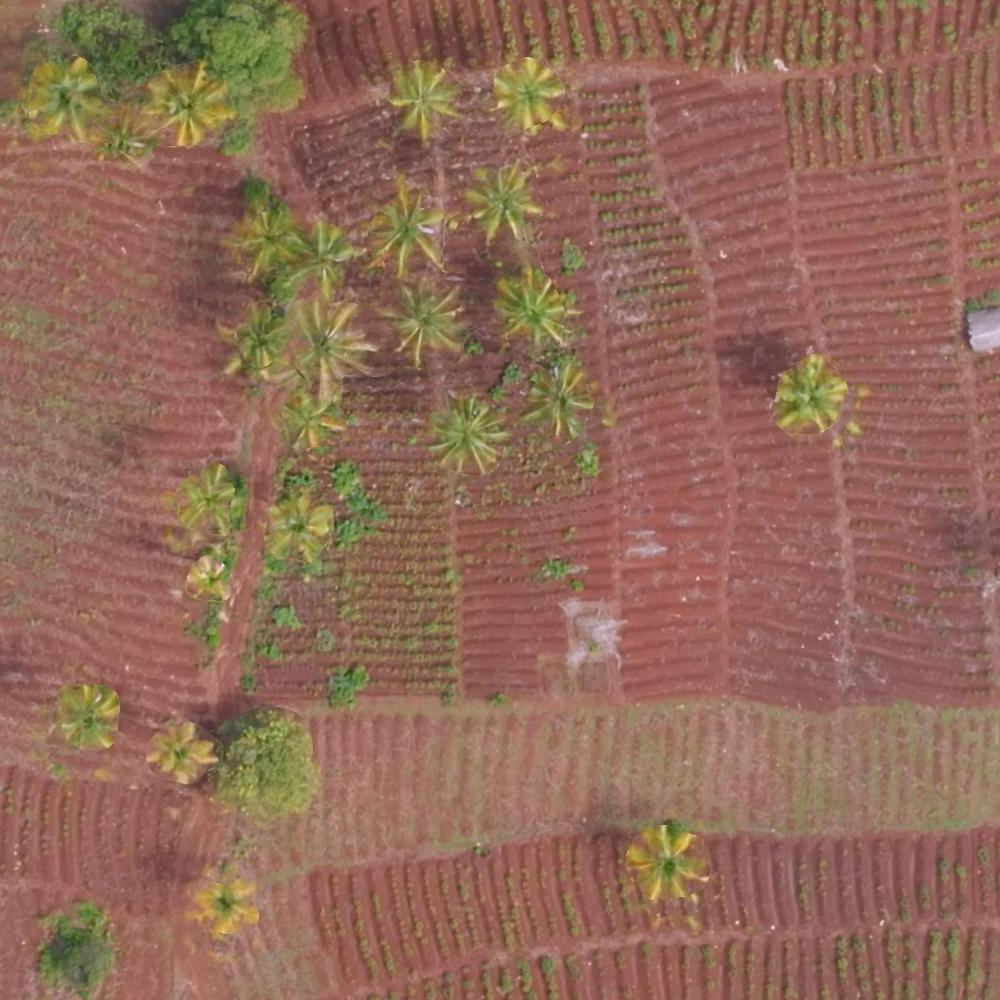Palm: (283, 305, 378, 401), (493, 267, 572, 347), (427, 394, 511, 469), (148, 68, 227, 146), (371, 190, 445, 269), (383, 284, 463, 355), (213, 298, 287, 374), (628, 829, 705, 902), (517, 366, 598, 435), (772, 357, 847, 429), (29, 59, 98, 135), (232, 204, 303, 275), (467, 168, 537, 238), (388, 63, 458, 132), (145, 718, 216, 785), (291, 223, 357, 293), (264, 491, 331, 558), (190, 873, 257, 938), (170, 467, 235, 533), (55, 685, 119, 749), (496, 64, 558, 125), (278, 394, 343, 452)
